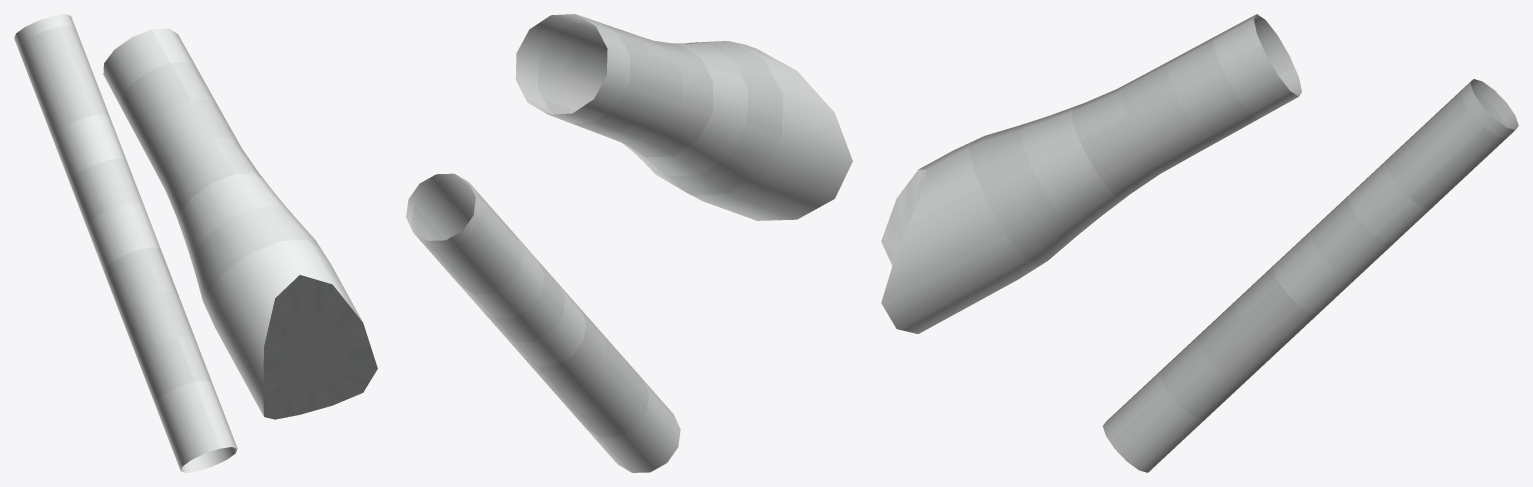
Rendered from luminairearm_truss8ftstraightdouble_c0_pedestal.obj.
The picture shows the model from 3 angles, left to right: view 1: azimuth 30°, elevation 25°; view 2: azimuth 150°, elevation 25°; view 3: azimuth 270°, elevation 25°; orthographic projection. The views are drawn at different scales.
Visible parts, largest first — view 1: luminairearm_truss8ftstraightdouble_c0_pedestal; view 2: luminairearm_truss8ftstraightdouble_c0_pedestal; view 3: luminairearm_truss8ftstraightdouble_c0_pedestal.
Boxes of the visible parts, box(x1,y1,x2,y2) form: luminairearm_truss8ftstraightdouble_c0_pedestal: box(14, 14, 377, 472); luminairearm_truss8ftstraightdouble_c0_pedestal: box(406, 14, 852, 472); luminairearm_truss8ftstraightdouble_c0_pedestal: box(881, 14, 1518, 472).
Size of the model in its own units: 0.3375 by 1.15 by 1.47.
